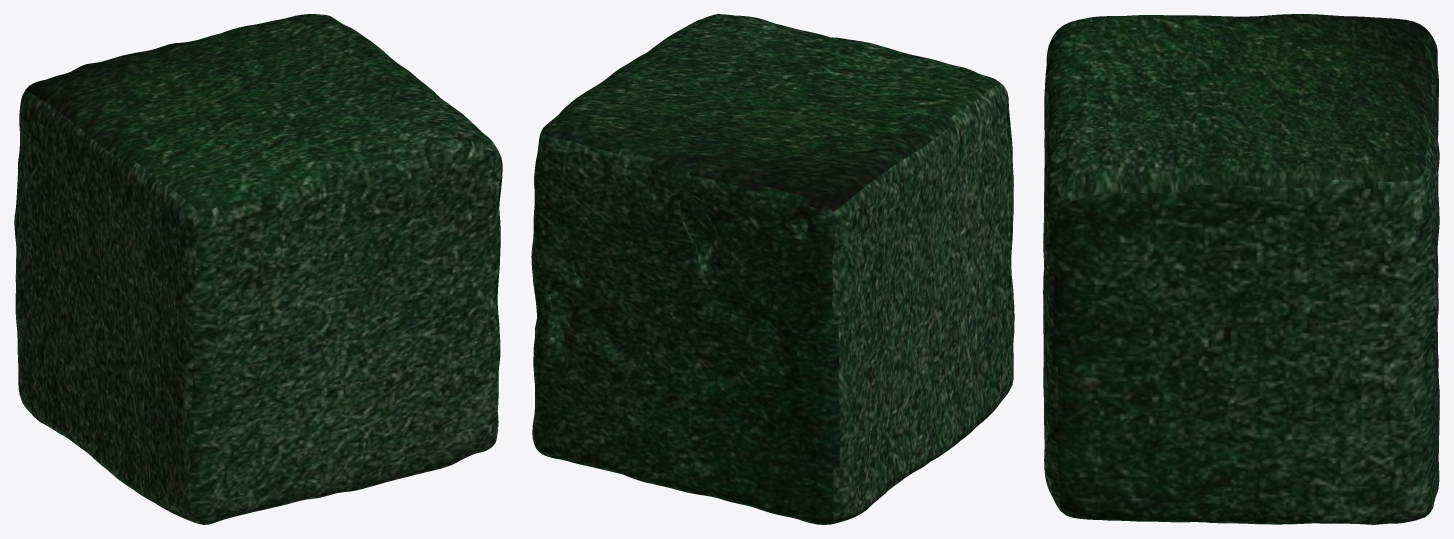
The model's file is Darkforestwall.glb.
3 views of the same model, side by side, from view 1: azimuth 30°, elevation 25°; view 2: azimuth 150°, elevation 25°; view 3: azimuth 270°, elevation 25° (orthographic). The views are drawn at different scales.
Visible parts, largest first — view 1: Mesh1; view 2: Mesh1; view 3: Mesh1.
Boxes of the visible parts, left/top/right/bottom form: Mesh1: left=14, top=14, right=502, bottom=524; Mesh1: left=531, top=14, right=1014, bottom=524; Mesh1: left=1043, top=14, right=1439, bottom=524.
Size of the model in its own units: 1.94 by 1.93 by 1.93.
Materials: 1 (1 with a texture image).
